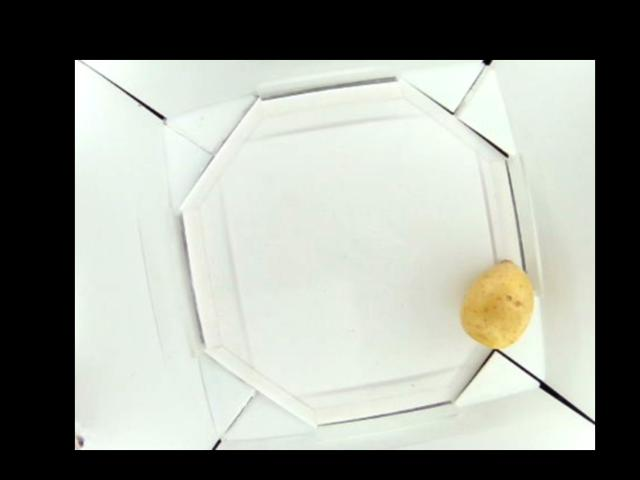Potato: (464, 259, 533, 344)
